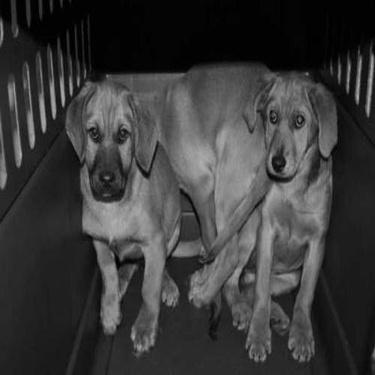dog: (128, 50, 292, 335), (199, 66, 341, 363), (49, 81, 183, 363)
